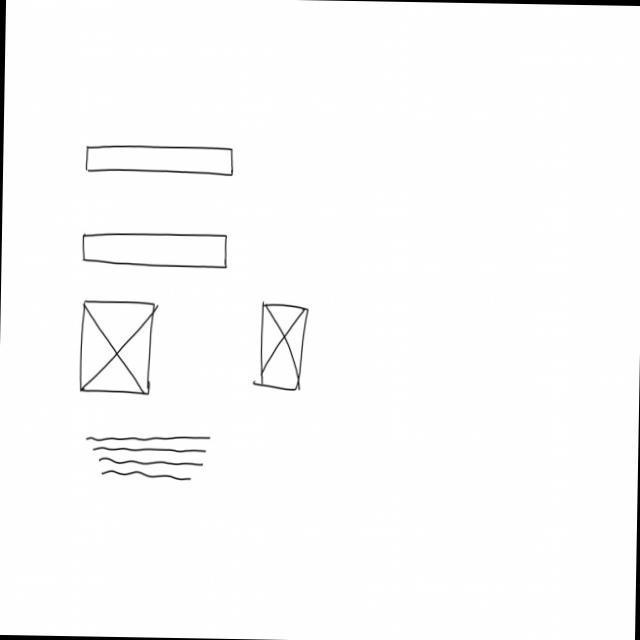container: (82, 231, 231, 273), (85, 142, 237, 180)
image: (79, 298, 156, 397), (257, 302, 310, 393)
textbox: (85, 434, 212, 484)
